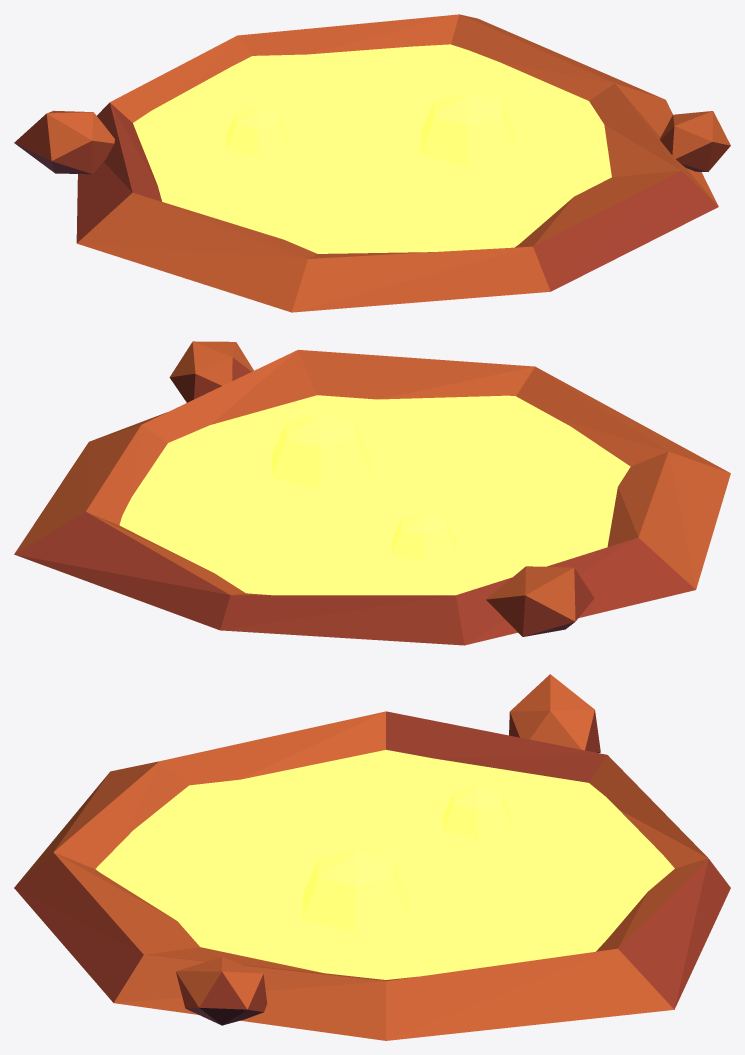
Rendered from Nat_SlimePool_A.fbx.
The picture shows the model from 3 angles, top to bottom: view 1: azimuth 30°, elevation 25°; view 2: azimuth 150°, elevation 25°; view 3: azimuth 270°, elevation 25°; orthographic projection. The views are drawn at different scales.
Parts seen in each view (by area): view 1: Nat_SlimePool_A_Body, Nat_SlimePool_A_Bubbles; view 2: Nat_SlimePool_A_Body, Nat_SlimePool_A_Bubbles; view 3: Nat_SlimePool_A_Body, Nat_SlimePool_A_Bubbles.
Part boxes in pixels (bbox=[...]): Nat_SlimePool_A_Body: bbox=[14, 14, 730, 312]; Nat_SlimePool_A_Bubbles: bbox=[226, 92, 515, 167]; Nat_SlimePool_A_Body: bbox=[14, 341, 730, 645]; Nat_SlimePool_A_Bubbles: bbox=[271, 413, 455, 562]; Nat_SlimePool_A_Body: bbox=[14, 674, 730, 1040]; Nat_SlimePool_A_Bubbles: bbox=[302, 786, 512, 932].
Bounding box in the file's own units: 2.47 × 0.27 × 2.35.
